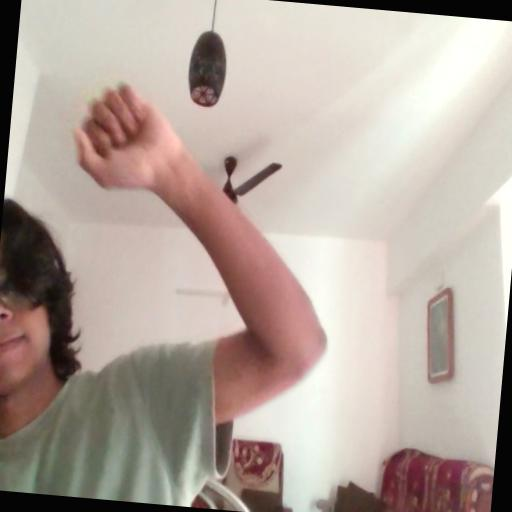Rock: (69, 79, 184, 200)
